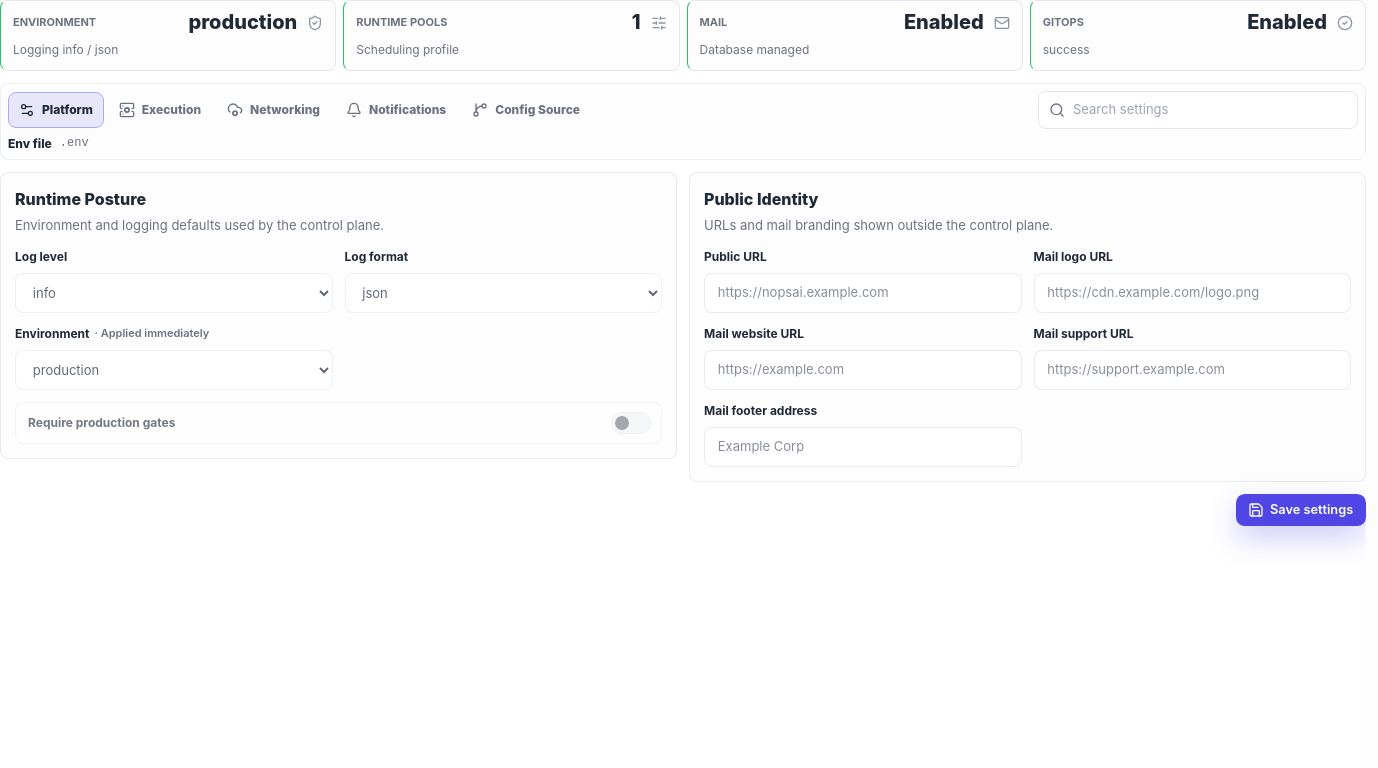
Test: disables runtime edits when AAA grants read-only access
Expected: the dropdown labelled "Environment Applied immediately" is disabled, [15,350,332,390]
Expected: the button "Save settings" is disabled, [1236,494,1366,526]
Click the tab "Config Source". click: [526, 110]
box: [461,92,591,128]
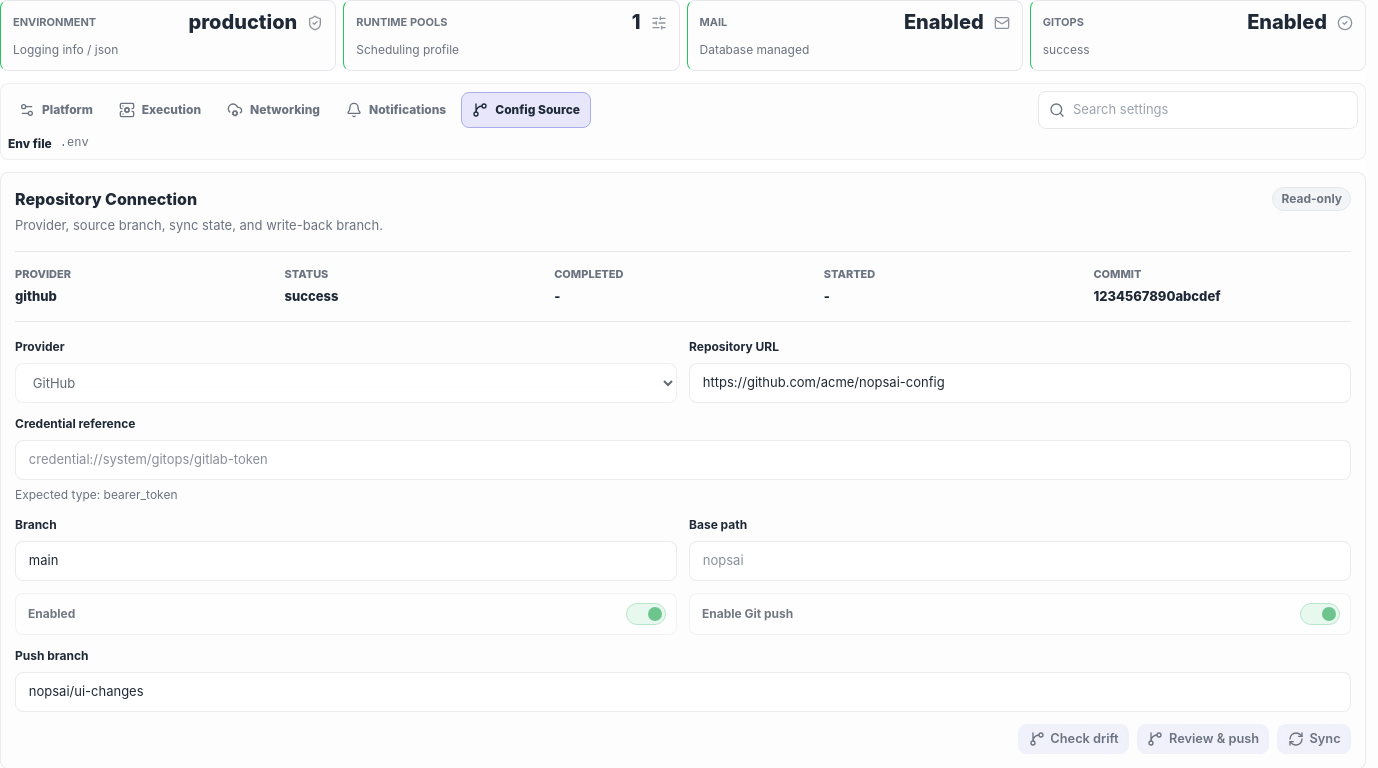
Now the text "Read-only" is shown, box [1272,187,1351,211]
